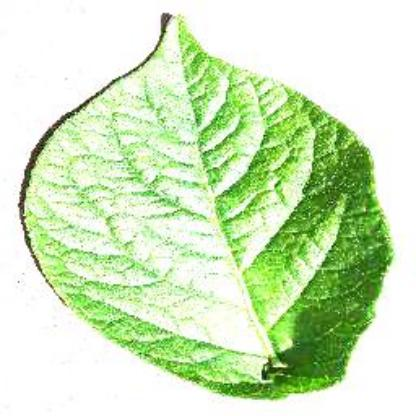Healthy-plant: (25, 22, 406, 408)
